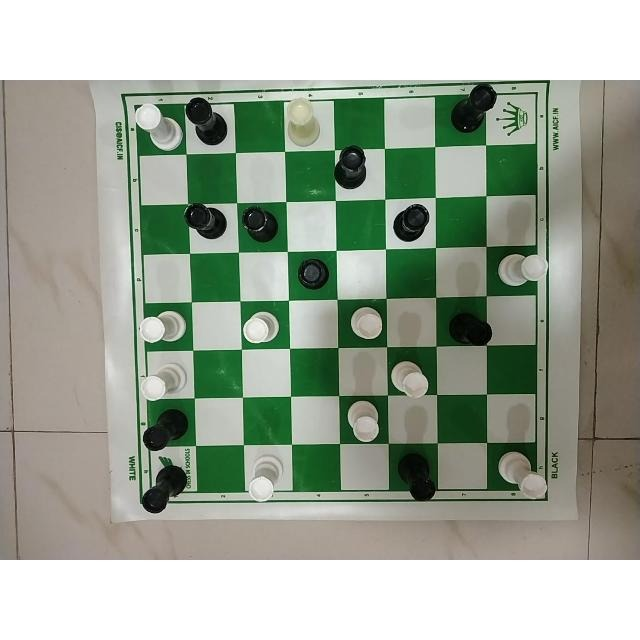black-rook: (394, 450, 442, 509), (141, 461, 193, 515), (447, 84, 501, 134), (182, 97, 231, 147), (141, 406, 193, 453), (444, 307, 497, 347), (181, 200, 230, 243), (330, 147, 374, 189), (238, 204, 280, 246), (391, 200, 432, 243), (294, 256, 331, 291)
white-rook: (492, 242, 550, 296), (493, 451, 553, 501), (132, 102, 184, 152), (284, 95, 325, 147), (137, 307, 191, 346), (139, 362, 193, 400), (246, 453, 287, 502), (389, 351, 432, 395), (344, 400, 386, 444), (347, 304, 387, 345), (240, 309, 284, 345)
